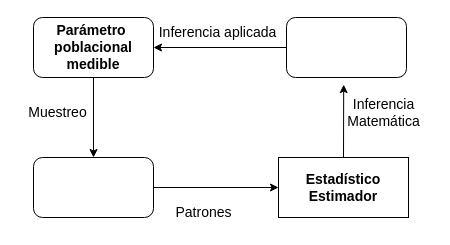
The diagram is 450 pixels wide and 245 high, and some of its shapes have lost their labels. Here are the shapes that lost their labels. From the top down, the box of each, then its label:
(286, 16, 406, 78): Parámetro Poblacional
(32, 156, 154, 218): Gráficos exploratorios
